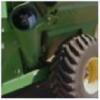tractors: (2, 2, 98, 97)
